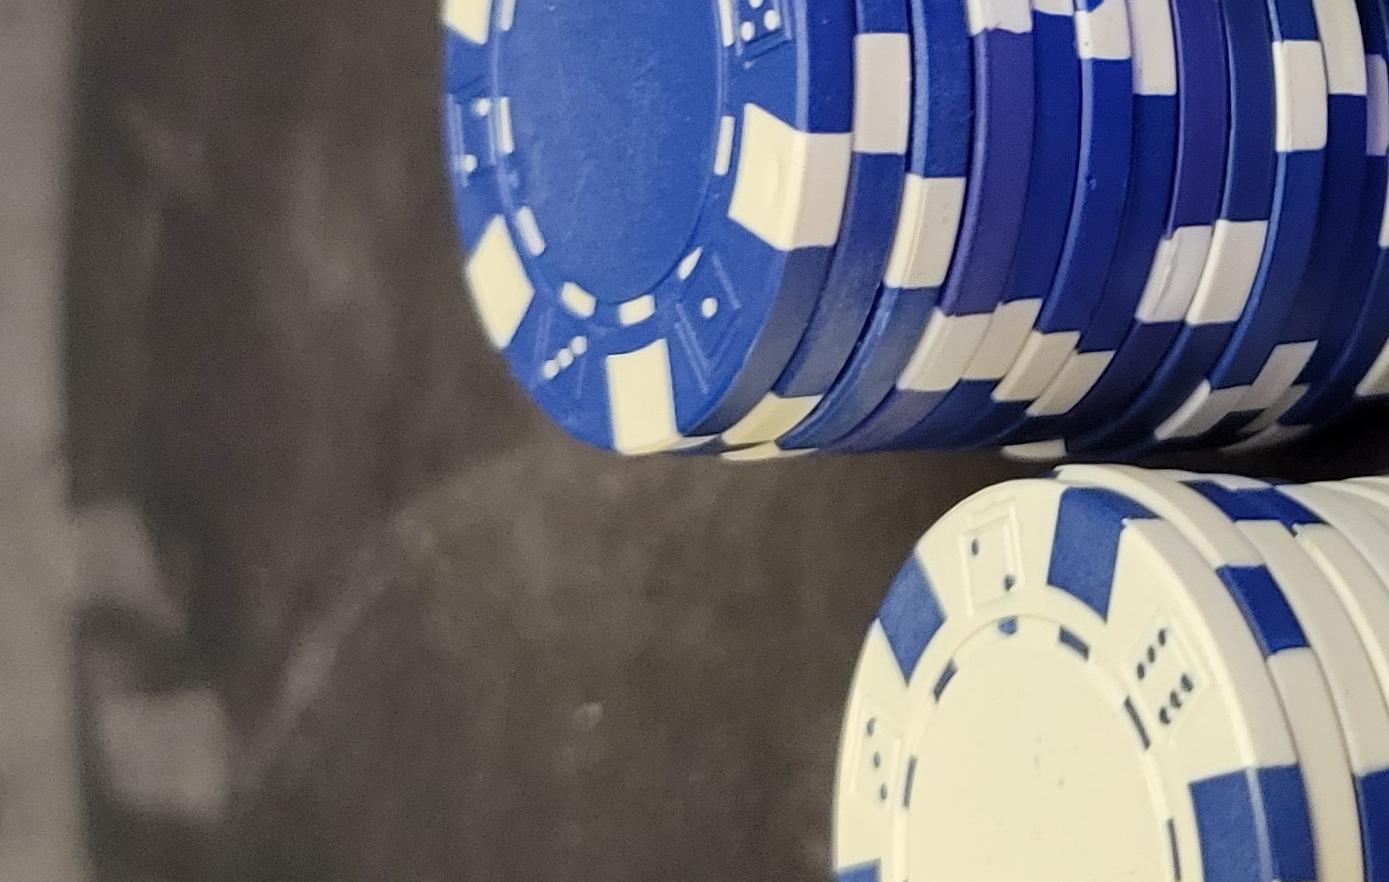Chip: (1, 537, 861, 882)
